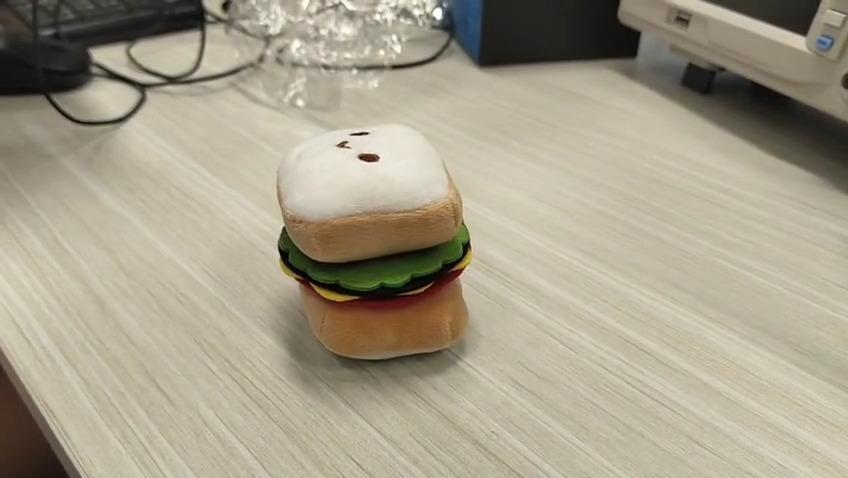objects: (275, 123, 474, 359)
